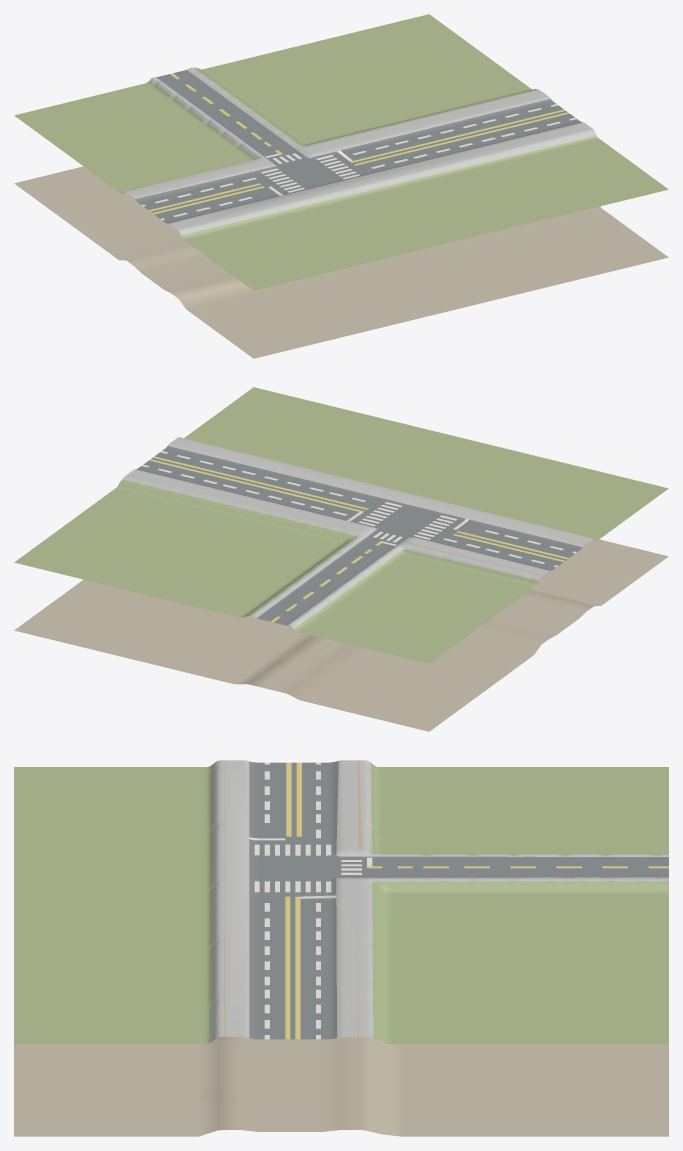
The picture shows the model from 3 angles, top to bottom: view 1: azimuth 30°, elevation 25°; view 2: azimuth 150°, elevation 25°; view 3: azimuth 270°, elevation 25°; orthographic projection. The views are drawn at different scales.
Parts seen in each view (by area): view 1: s_-10_5__grass, s_-10_5__soil, s_-10_5__asphalt, s_-10_5__stone_paving, s_-10_5__yellow_marking, s_-10_5__white_marking, s_-10_5__timber_deck; view 2: s_-10_5__grass, s_-10_5__soil, s_-10_5__asphalt, s_-10_5__stone_paving, s_-10_5__yellow_marking, s_-10_5__white_marking, s_-10_5__timber_deck; view 3: s_-10_5__grass, s_-10_5__soil, s_-10_5__asphalt, s_-10_5__stone_paving, s_-10_5__yellow_marking, s_-10_5__white_marking, s_-10_5__timber_deck.
Boxes of the visible parts, x1=… form: s_-10_5__grass: x1=14, y1=14, x2=668, y2=290; s_-10_5__soil: x1=14, y1=151, x2=668, y2=358; s_-10_5__asphalt: x1=135, y1=70, x2=581, y2=223; s_-10_5__stone_paving: x1=124, y1=67, x2=596, y2=235; s_-10_5__yellow_marking: x1=148, y1=73, x2=569, y2=214; s_-10_5__white_marking: x1=141, y1=104, x2=576, y2=220; s_-10_5__timber_deck: x1=128, y1=92, x2=591, y2=226; s_-10_5__grass: x1=14, y1=387, x2=668, y2=663; s_-10_5__soil: x1=14, y1=515, x2=668, y2=731; s_-10_5__asphalt: x1=136, y1=446, x2=582, y2=625; s_-10_5__stone_paving: x1=122, y1=437, x2=593, y2=628; s_-10_5__yellow_marking: x1=149, y1=456, x2=568, y2=622; s_-10_5__white_marking: x1=142, y1=451, x2=576, y2=567; s_-10_5__timber_deck: x1=128, y1=438, x2=584, y2=575; s_-10_5__grass: x1=14, y1=763, x2=668, y2=1043; s_-10_5__soil: x1=14, y1=897, x2=668, y2=1136; s_-10_5__asphalt: x1=249, y1=761, x2=668, y2=1039; s_-10_5__stone_paving: x1=211, y1=760, x2=668, y2=1041; s_-10_5__yellow_marking: x1=285, y1=762, x2=668, y2=1039; s_-10_5__white_marking: x1=249, y1=762, x2=372, y2=1039; s_-10_5__timber_deck: x1=224, y1=760, x2=361, y2=1036.
Size of the model in its own units: 128 by 21.51 by 128.
